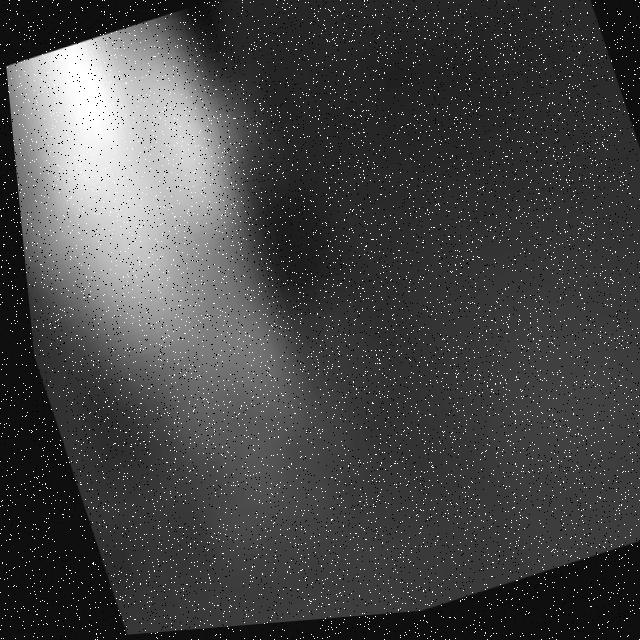person: (3, 8, 329, 557)
